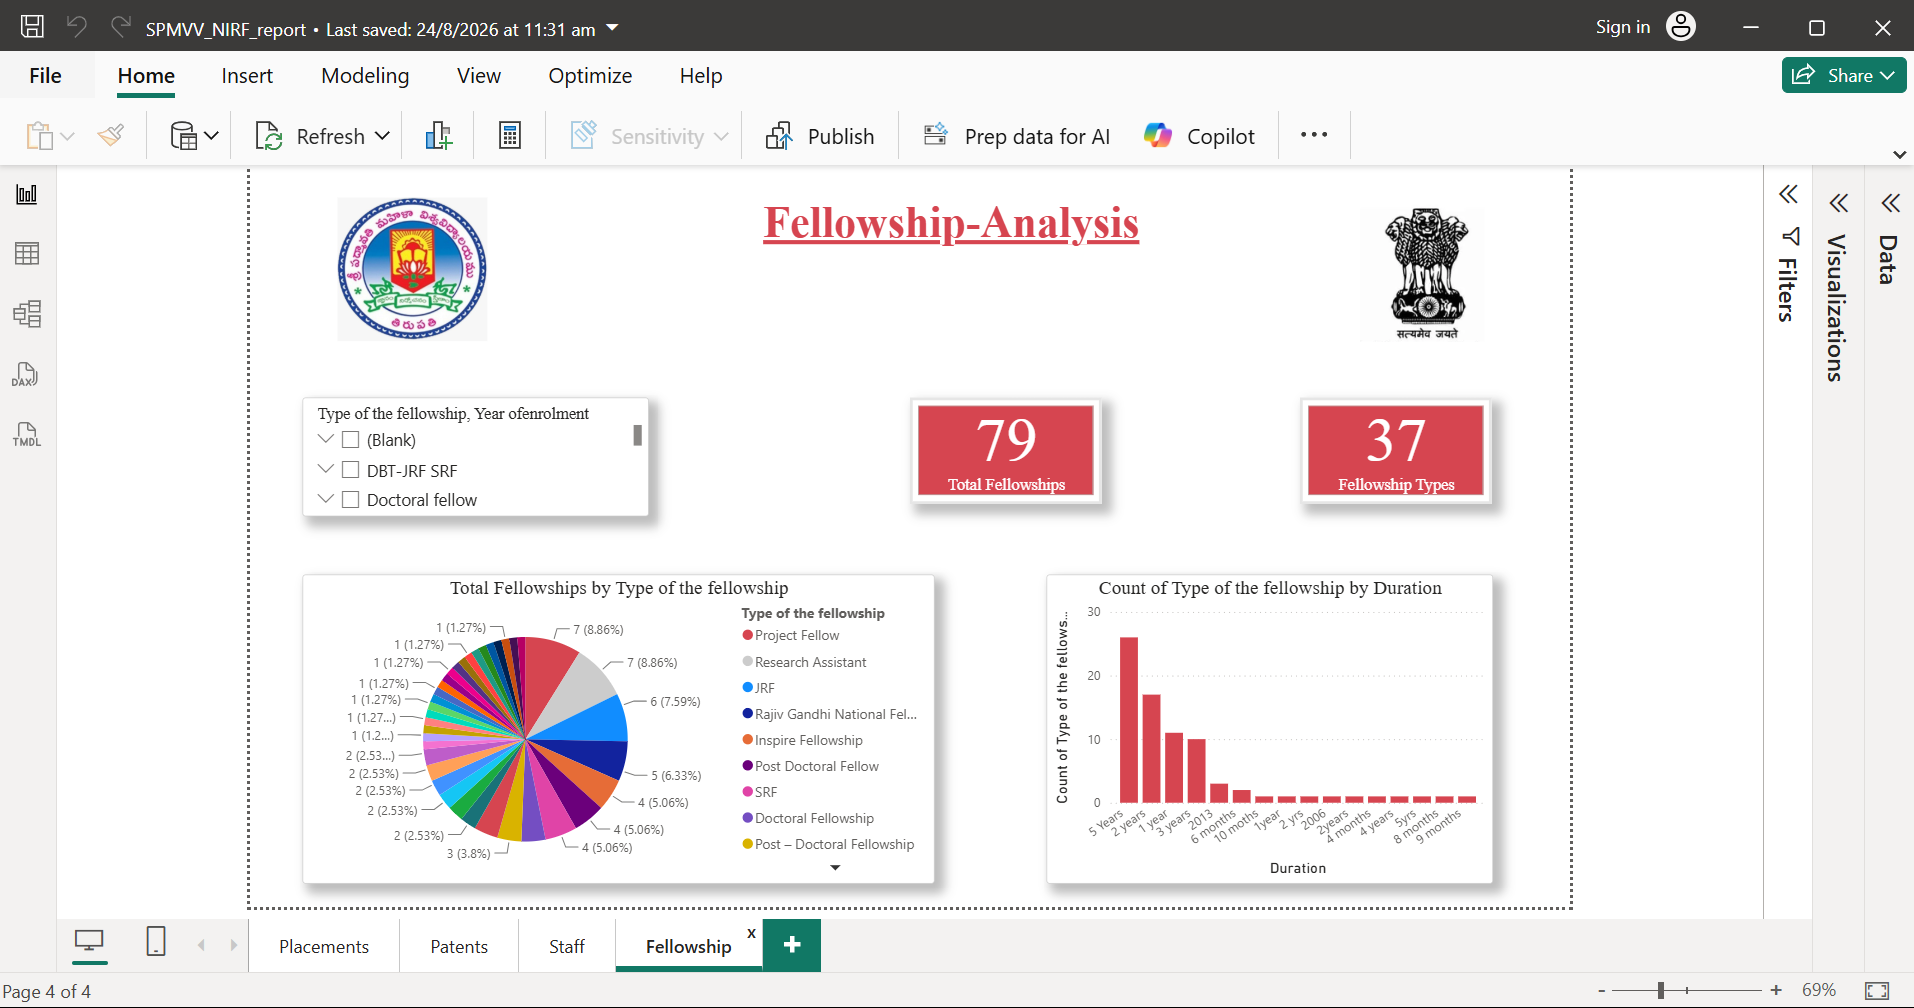

Layout of this report page (visuals, bound fields, positions):
{"tool":"powerbi","page":{"name":"Fellowship","canvas":[1280,720],"ordinal":3},"visuals":[{"type":"cardVisual","fields":{"Data":["Fellowship.Total Fellowships"]},"box":[640.5,225.6,186.2,103],"z":0},{"type":"cardVisual","fields":{"Data":["Fellowship.Fellowship Types"]},"box":[1019.1,225.6,186.2,103],"z":1000},{"type":"pieChart","fields":{"Category":["Fellowship.Type of the fellowship"],"Y":["Fellowship.Total Fellowships"]},"box":[51.5,396.7,613.3,299.8],"z":2000},{"type":"clusteredColumnChart","fields":{"Category":["Fellowship.Duration offellowship"],"Y":["CountNonNull(Fellowship.Type of the fellowship)"]},"box":[772.2,396.7,433.1,299.8],"z":3000},{"type":"slicer","fields":{"Values":["Fellowship.Type of the fellowship","Fellowship.Year ofenrolment"]},"box":[51.5,225.6,336.2,115.1],"z":4000},{"type":"textbox","box":[472.4,25.7,414.9,134.8],"z":5000},{"type":"image","box":[51.5,25.7,213.5,149.9],"z":6000},{"type":"image","box":[1063,25.7,150,150],"z":7000}]}

Visuals, with their boxes on the page's 1280x720 design canvas (x1, y1, x2, y2). These are canvas units, not pixel positions in the 1914x1008 screenshot, which may show the page scaled, cropped or inside an application window:
cardVisual - Fellowship.Total Fellowships: x1=640, y1=226, x2=827, y2=329
cardVisual - Fellowship.Fellowship Types: x1=1019, y1=226, x2=1205, y2=329
pieChart - Fellowship.Type of the fellowship x Fellowship.Total Fellowships: x1=52, y1=397, x2=665, y2=696
clusteredColumnChart - Fellowship.Duration offellowship x CountNonNull(Fellowship.Type of the fellowship): x1=772, y1=397, x2=1205, y2=696
slicer - Fellowship.Type of the fellowship x Fellowship.Year ofenrolment: x1=52, y1=226, x2=388, y2=341
textbox: x1=472, y1=26, x2=887, y2=160
image: x1=52, y1=26, x2=265, y2=176
image: x1=1063, y1=26, x2=1213, y2=176
